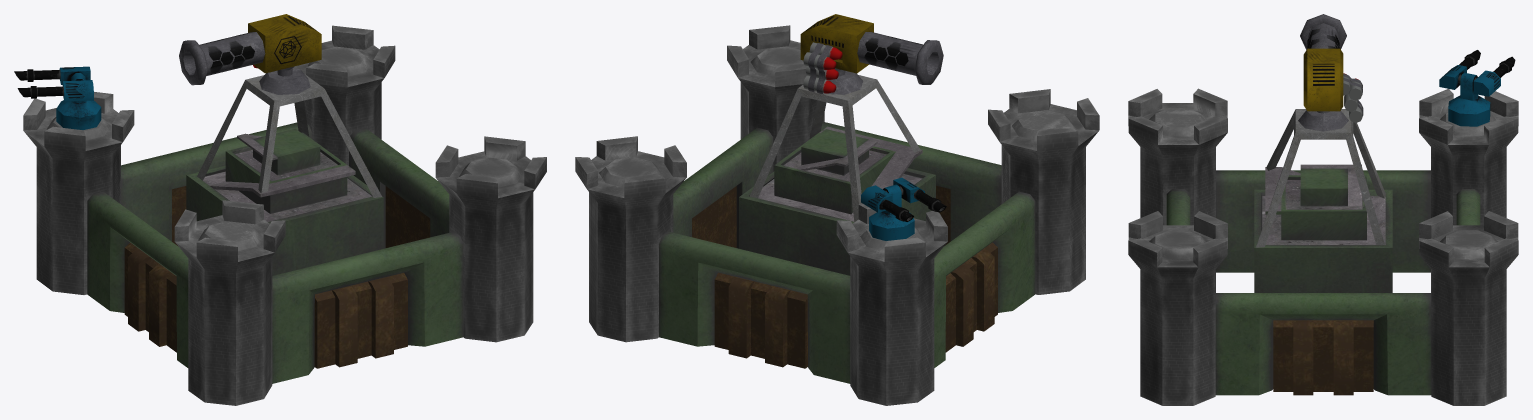
3 views of the same model, side by side, from view 1: azimuth 30°, elevation 25°; view 2: azimuth 150°, elevation 25°; view 3: azimuth 270°, elevation 25° (orthographic). The views are drawn at different scales.
Visible parts, largest first — view 1: base, BGUN_HEAD, BGUN_BODY, MGUN_HEAD, MGUN_BODY; view 2: base, BGUN_HEAD, BGUN_BODY, MGUN_HEAD, MGUN_BODY; view 3: base, BGUN_HEAD, BGUN_BODY, MGUN_BODY, MGUN_HEAD.
Boxes of the visible parts, x1=… form: base: x1=23, y1=25, x2=546, y2=405; BGUN_HEAD: x1=179, y1=14, x2=321, y2=94; BGUN_BODY: x1=197, y1=67, x2=381, y2=197; MGUN_HEAD: x1=14, y1=66, x2=93, y2=101; MGUN_BODY: x1=56, y1=73, x2=101, y2=129; base: x1=575, y1=25, x2=1099, y2=405; BGUN_HEAD: x1=800, y1=14, x2=943, y2=94; BGUN_BODY: x1=750, y1=75, x2=920, y2=221; MGUN_HEAD: x1=861, y1=177, x2=946, y2=221; MGUN_BODY: x1=869, y1=184, x2=914, y2=240; base: x1=1128, y1=88, x2=1518, y2=405; BGUN_HEAD: x1=1298, y1=14, x2=1363, y2=131; BGUN_BODY: x1=1256, y1=109, x2=1385, y2=247; MGUN_BODY: x1=1448, y1=72, x2=1490, y2=126; MGUN_HEAD: x1=1439, y1=50, x2=1515, y2=96.
Bounding box in the file's own units: 769 × 604 × 746.
